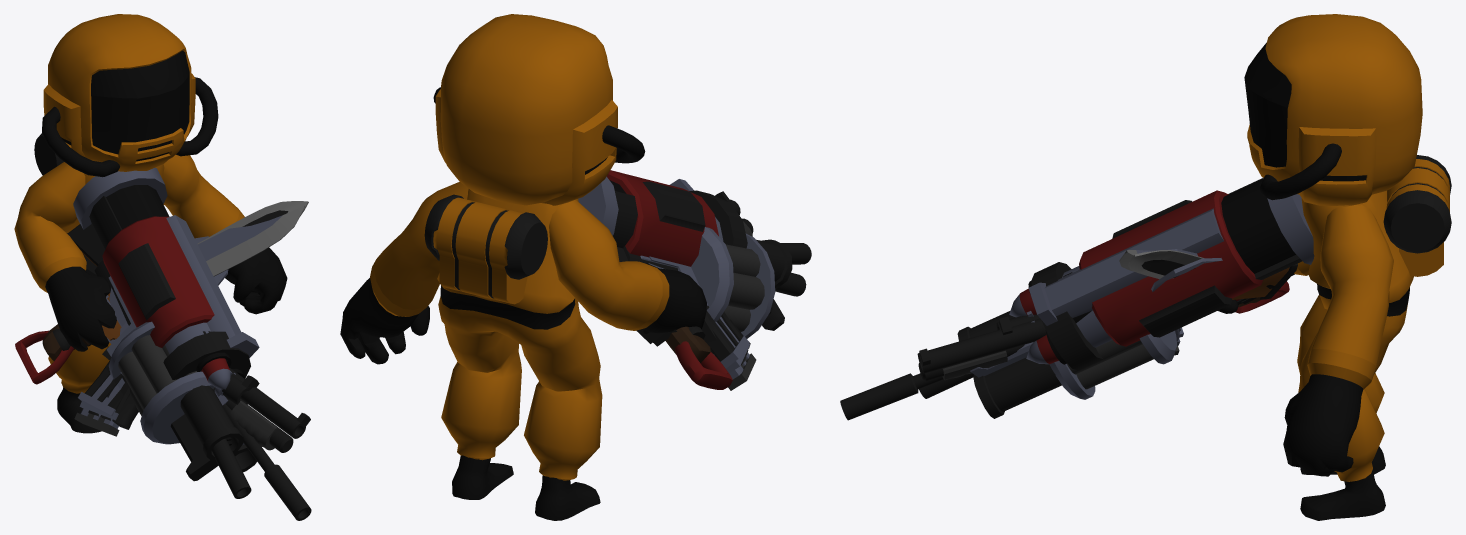
File: Character_Hazmat.obj
The picture shows the model from 3 angles, left to right: view 1: azimuth 30°, elevation 25°; view 2: azimuth 150°, elevation 25°; view 3: azimuth 270°, elevation 25°; orthographic projection. The views are drawn at different scales.
Parts seen in each view (by area): view 1: Character_Hazmat_Head_Cube.006, Character_Hazmat_Cube.002, RocketLauncher_Cube.298, GrenadeLauncher_Cylinder.019, Knife_1_Cube.300, Sniper_Cube.312, Shotgun_Cube.283, Sniper_2_Cube.282, Shovel_Cylinder.025, Knife_2_Cylinder.027, ShortCannon_Cube.000, AK_Cube.276 (+2 smaller); view 2: Character_Hazmat_Cube.002, Character_Hazmat_Head_Cube.006, RocketLauncher_Cube.298, GrenadeLauncher_Cylinder.019, Sniper_Cube.312, Shovel_Cylinder.025, Sniper_2_Cube.282, Knife_1_Cube.300, AK_Cube.276; view 3: Character_Hazmat_Cube.002, Character_Hazmat_Head_Cube.006, RocketLauncher_Cube.298, GrenadeLauncher_Cylinder.019, Shotgun_Cube.283, Sniper_Cube.312, Knife_2_Cylinder.027, Shovel_Cylinder.025.
Part boxes in pixels (<box>): Character_Hazmat_Head_Cube.006: <box>42,14,218,177</box>; Character_Hazmat_Cube.002: <box>14,133,287,433</box>; RocketLauncher_Cube.298: <box>73,167,259,389</box>; GrenadeLauncher_Cylinder.019: <box>108,321,256,481</box>; Knife_1_Cube.300: <box>42,205,304,360</box>; Sniper_Cube.312: <box>78,254,311,520</box>; Shotgun_Cube.283: <box>226,367,310,452</box>; Sniper_2_Cube.282: <box>67,224,251,498</box>; Shovel_Cylinder.025: <box>15,236,228,384</box>; Knife_2_Cylinder.027: <box>52,201,308,350</box>; ShortCannon_Cube.000: <box>102,320,259,404</box>; AK_Cube.276: <box>74,251,119,436</box>; Character_Hazmat_Cube.002: <box>340,181,706,520</box>; Character_Hazmat_Head_Cube.006: <box>433,14,645,205</box>; RocketLauncher_Cube.298: <box>578,170,747,270</box>; GrenadeLauncher_Cylinder.019: <box>691,227,792,338</box>; Sniper_Cube.312: <box>706,243,811,368</box>; Shovel_Cylinder.025: <box>675,341,732,389</box>; Sniper_2_Cube.282: <box>617,247,806,372</box>; Knife_1_Cube.300: <box>665,326,710,363</box>; AK_Cube.276: <box>640,255,756,390</box>; Character_Hazmat_Cube.002: <box>1217,155,1451,520</box>; Character_Hazmat_Head_Cube.006: <box>1244,14,1422,205</box>; RocketLauncher_Cube.298: <box>1009,177,1314,370</box>; GrenadeLauncher_Cylinder.019: <box>957,311,1176,418</box>; Shotgun_Cube.283: <box>917,263,1297,381</box>; Sniper_Cube.312: <box>840,311,1183,420</box>; Knife_2_Cylinder.027: <box>1128,250,1203,279</box>; Shovel_Cylinder.025: <box>1151,258,1289,313</box>.
Bounding box in the file's own units: 1.56 × 2.02 × 2.42.
